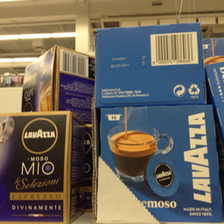coffee: (98, 104, 222, 224), (1, 110, 89, 224), (19, 45, 94, 111)
